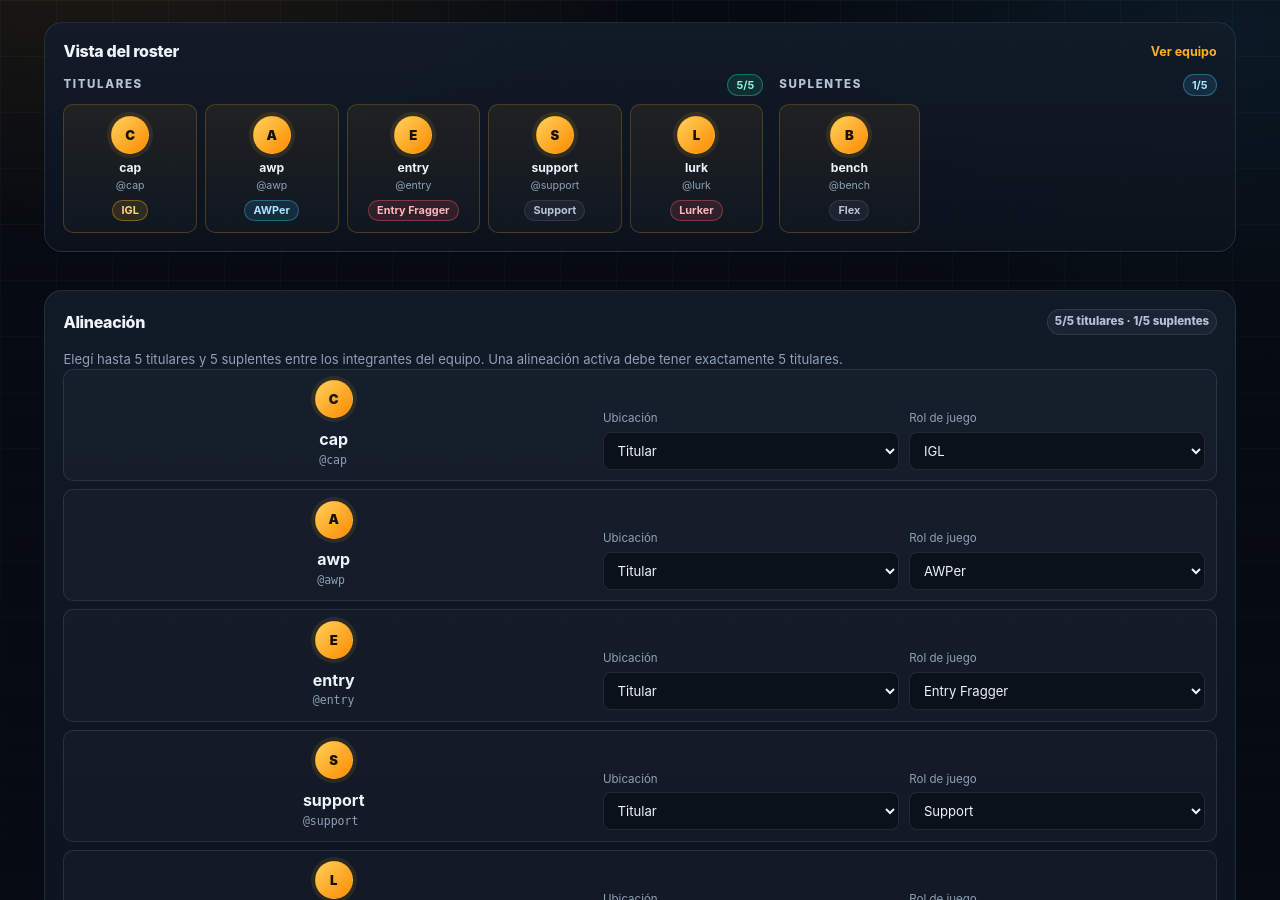
Test case: TeamLineupDetail page › saves the selected roster and game roles
(page scrolled)
Select "No convocado" in the dropdown named "Ubicación de cap": point(751, 451) [603, 432, 899, 470]
(page scrolled)
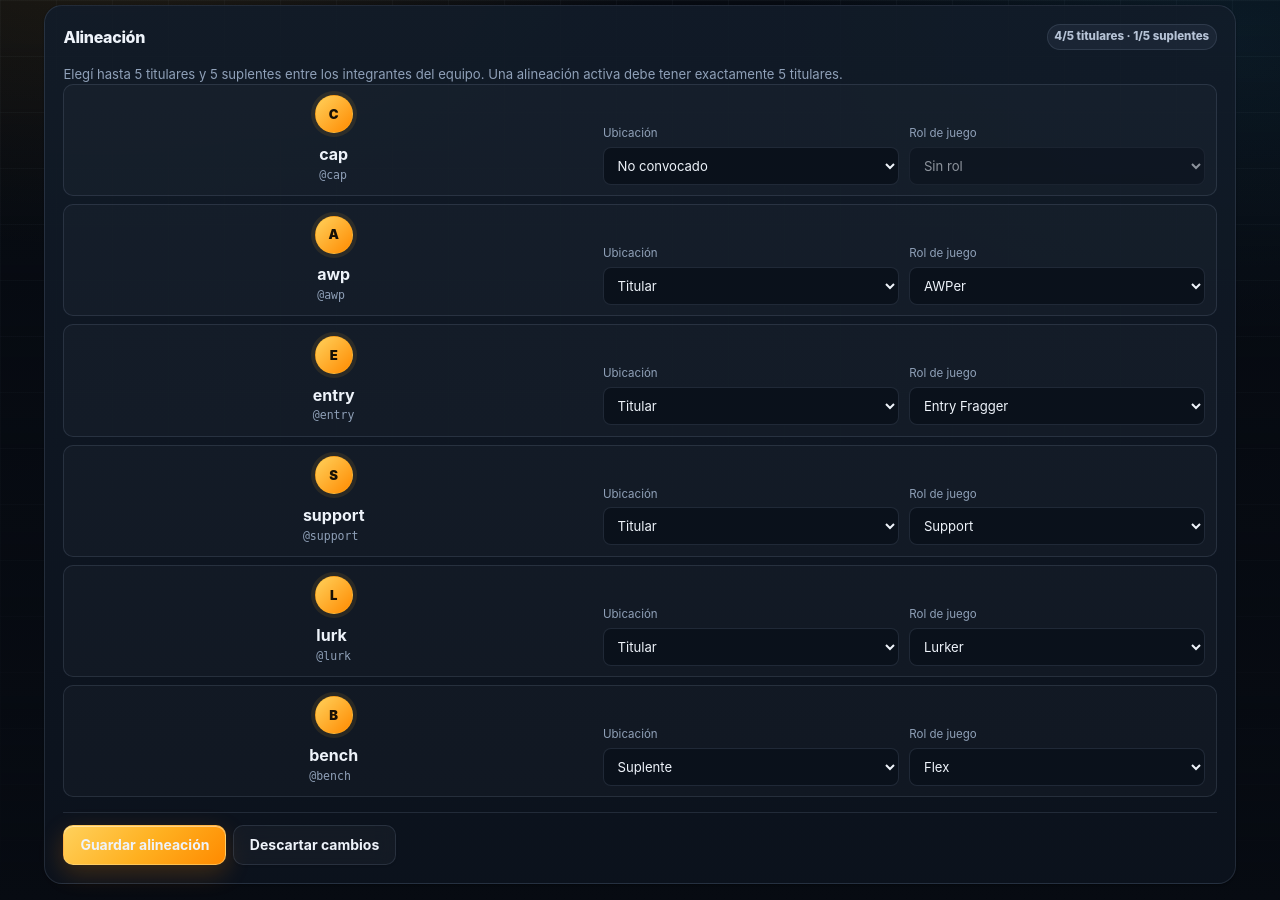
Select "Titular" in the dropdown named "Ubicación de bench": point(751, 767) [603, 748, 899, 786]
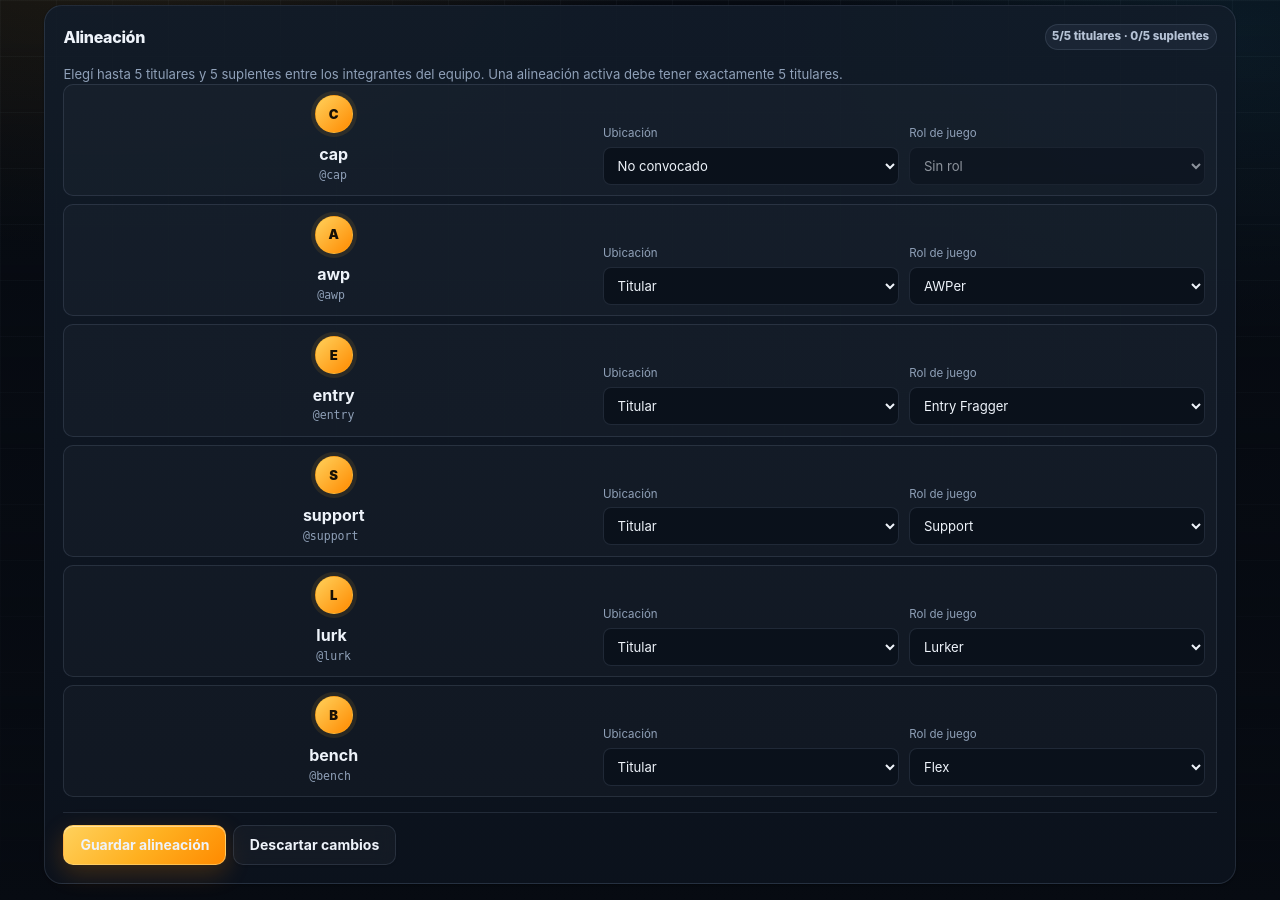
Select "Anchor" in the dropdown named "Rol de juego de bench": point(1057, 767) [909, 748, 1205, 786]
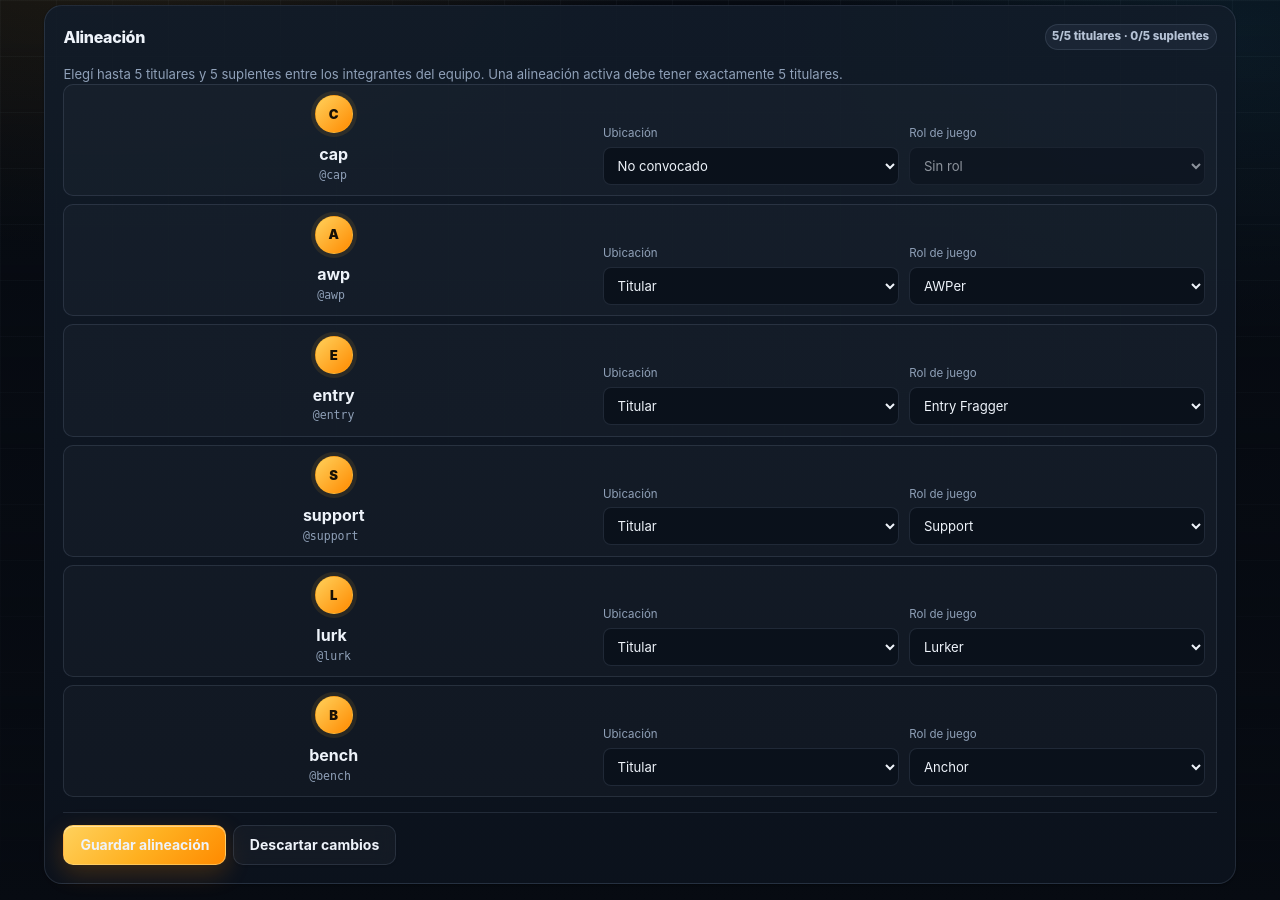
Click the button "Guardar alineación": point(145, 845) [63, 825, 226, 865]
(page scrolled)
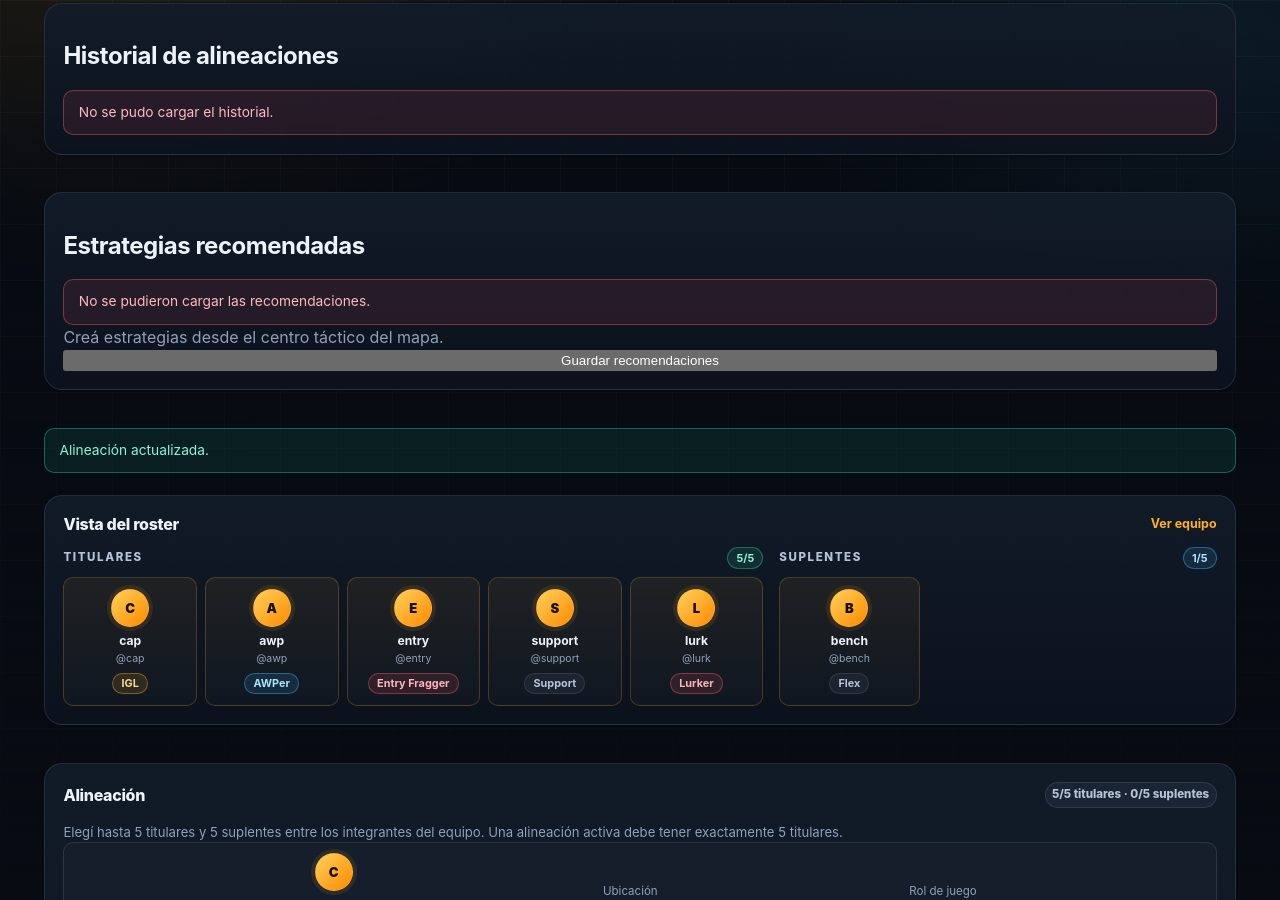
Result: the text "Alineación actualizada." is shown at [44, 428, 1236, 473]
